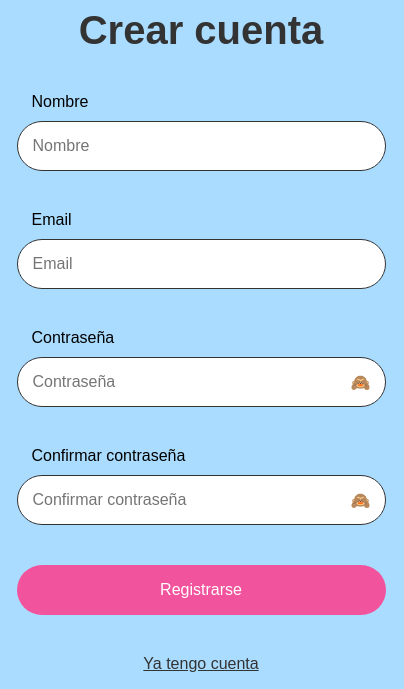
Test: Auth - Register › email inválido muestra error
Type "test" into the field with test id "register-name" at (202, 146), box [17,121,386,171]
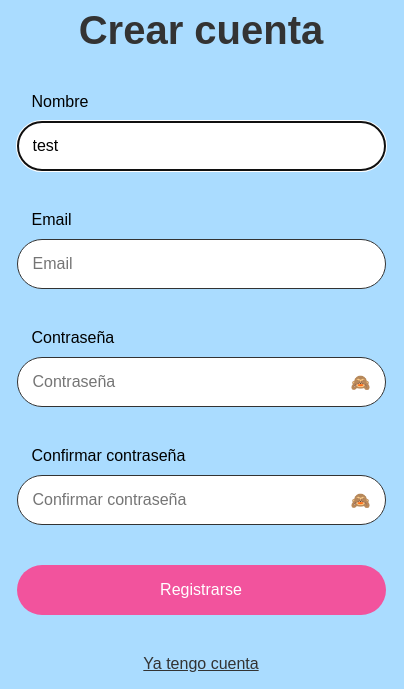
Type "email@invalido" into the field with test id "register-email" at (202, 264), box [17,239,386,289]
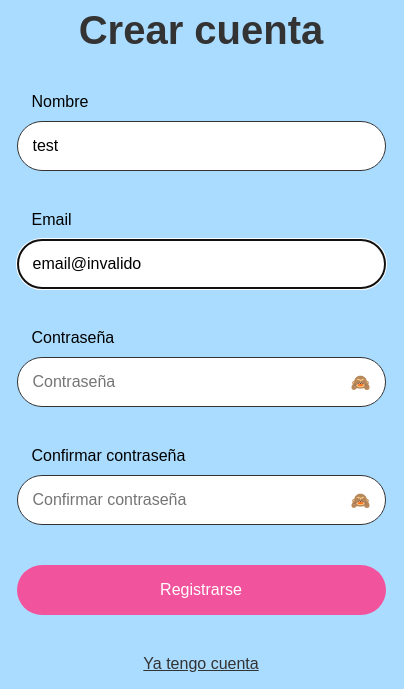
Type "12345678" into the password field with test id "register-password" at (202, 382), box [17,357,386,407]
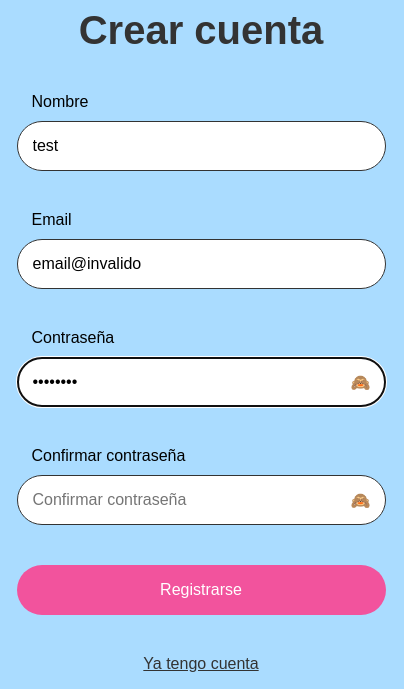
Type "12345678" into the password field with test id "register-password2" at (202, 500), box [17,475,386,525]
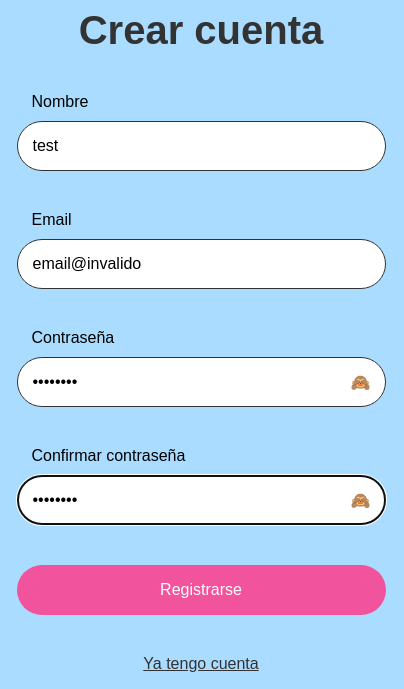
Click the button with test id "register-submit" at (202, 590), box [17,565,386,615]
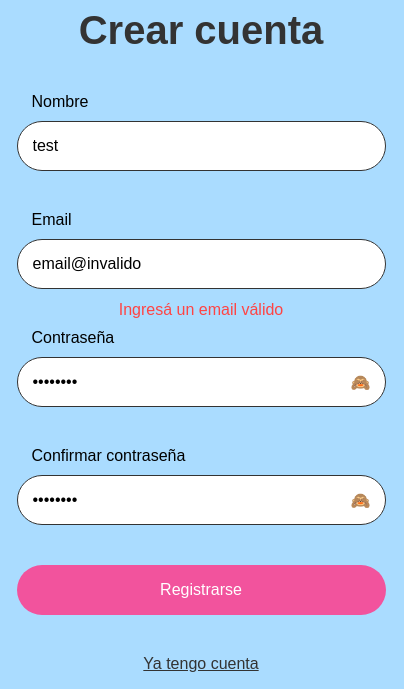
expect the text with test id "register-error-email" reads "Ingresá un email válido": met, box [119,301,284,318]
